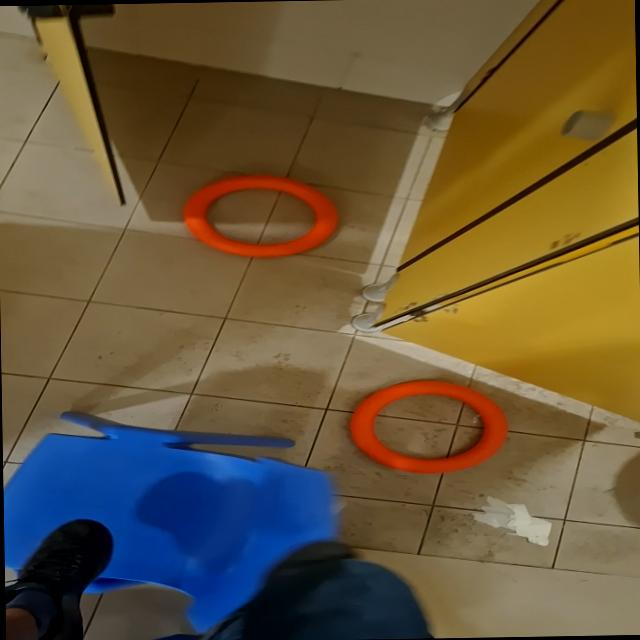note: (346, 376, 509, 476), (180, 172, 339, 260)
